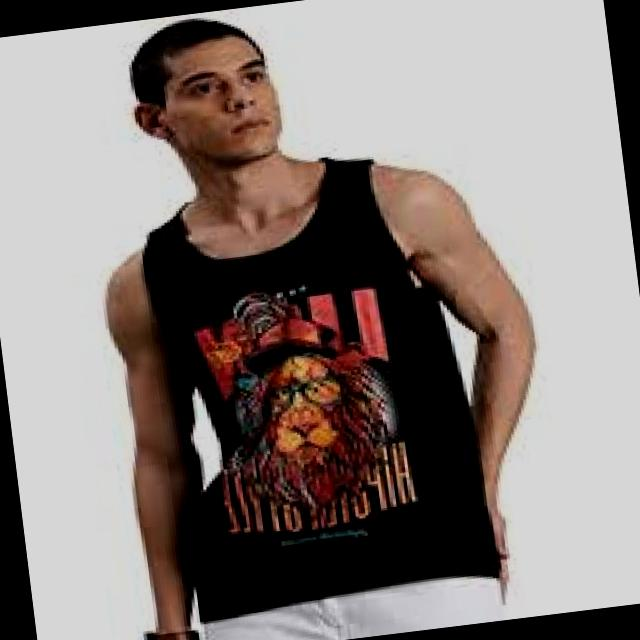no_vest: (131, 140, 504, 625)
